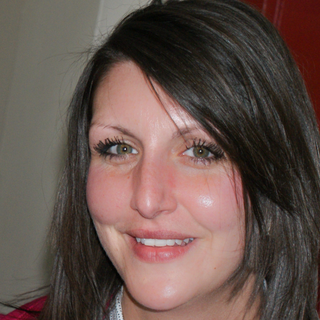eye: (95, 136, 141, 163), (181, 139, 227, 165)
